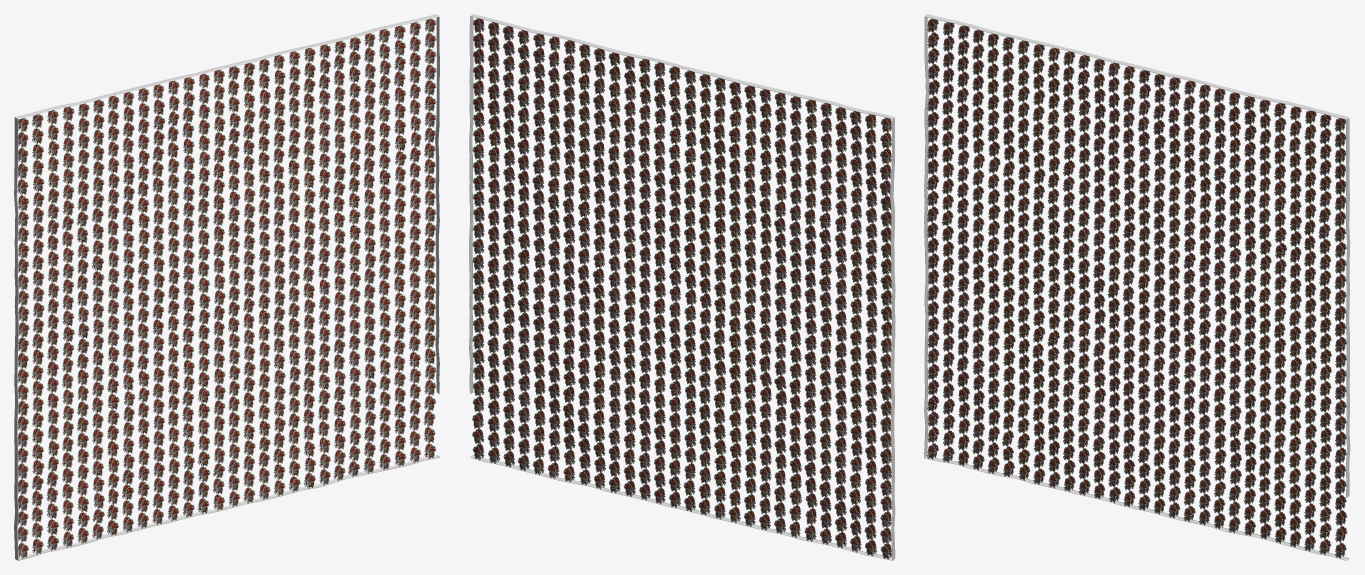
The model's file is SM_Tile_Floor7x7.fbx.
3 renders of one model, left to right at view 1: azimuth 30°, elevation 25°; view 2: azimuth 150°, elevation 25°; view 3: azimuth 330°, elevation 25°, orthographic.
Visible parts, largest first — view 1: SM_Tile_Floor7x7; view 2: SM_Tile_Floor7x7; view 3: SM_Tile_Floor7x7.
Part boxes in pixels (x1=…): SM_Tile_Floor7x7: x1=14, y1=14, x2=439, y2=560; SM_Tile_Floor7x7: x1=469, y1=14, x2=895, y2=560; SM_Tile_Floor7x7: x1=924, y1=14, x2=1350, y2=560.
Size of the model in its own units: 1403 by 1402 by 34.09.
